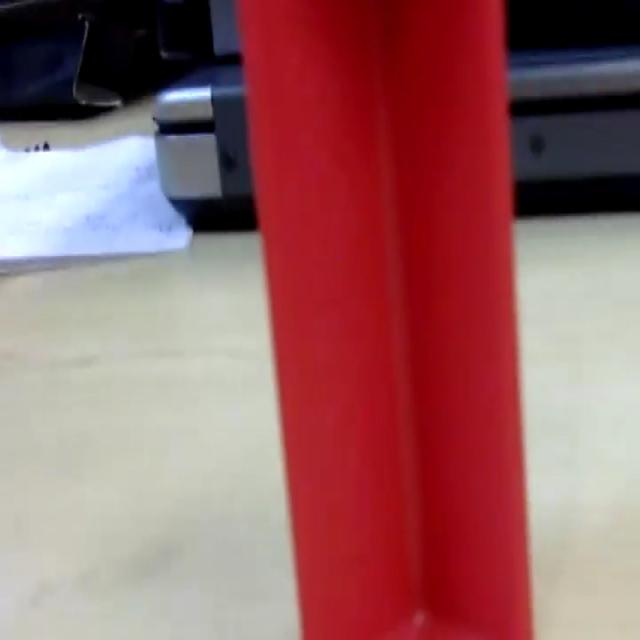red_block: (234, 0, 535, 636)
